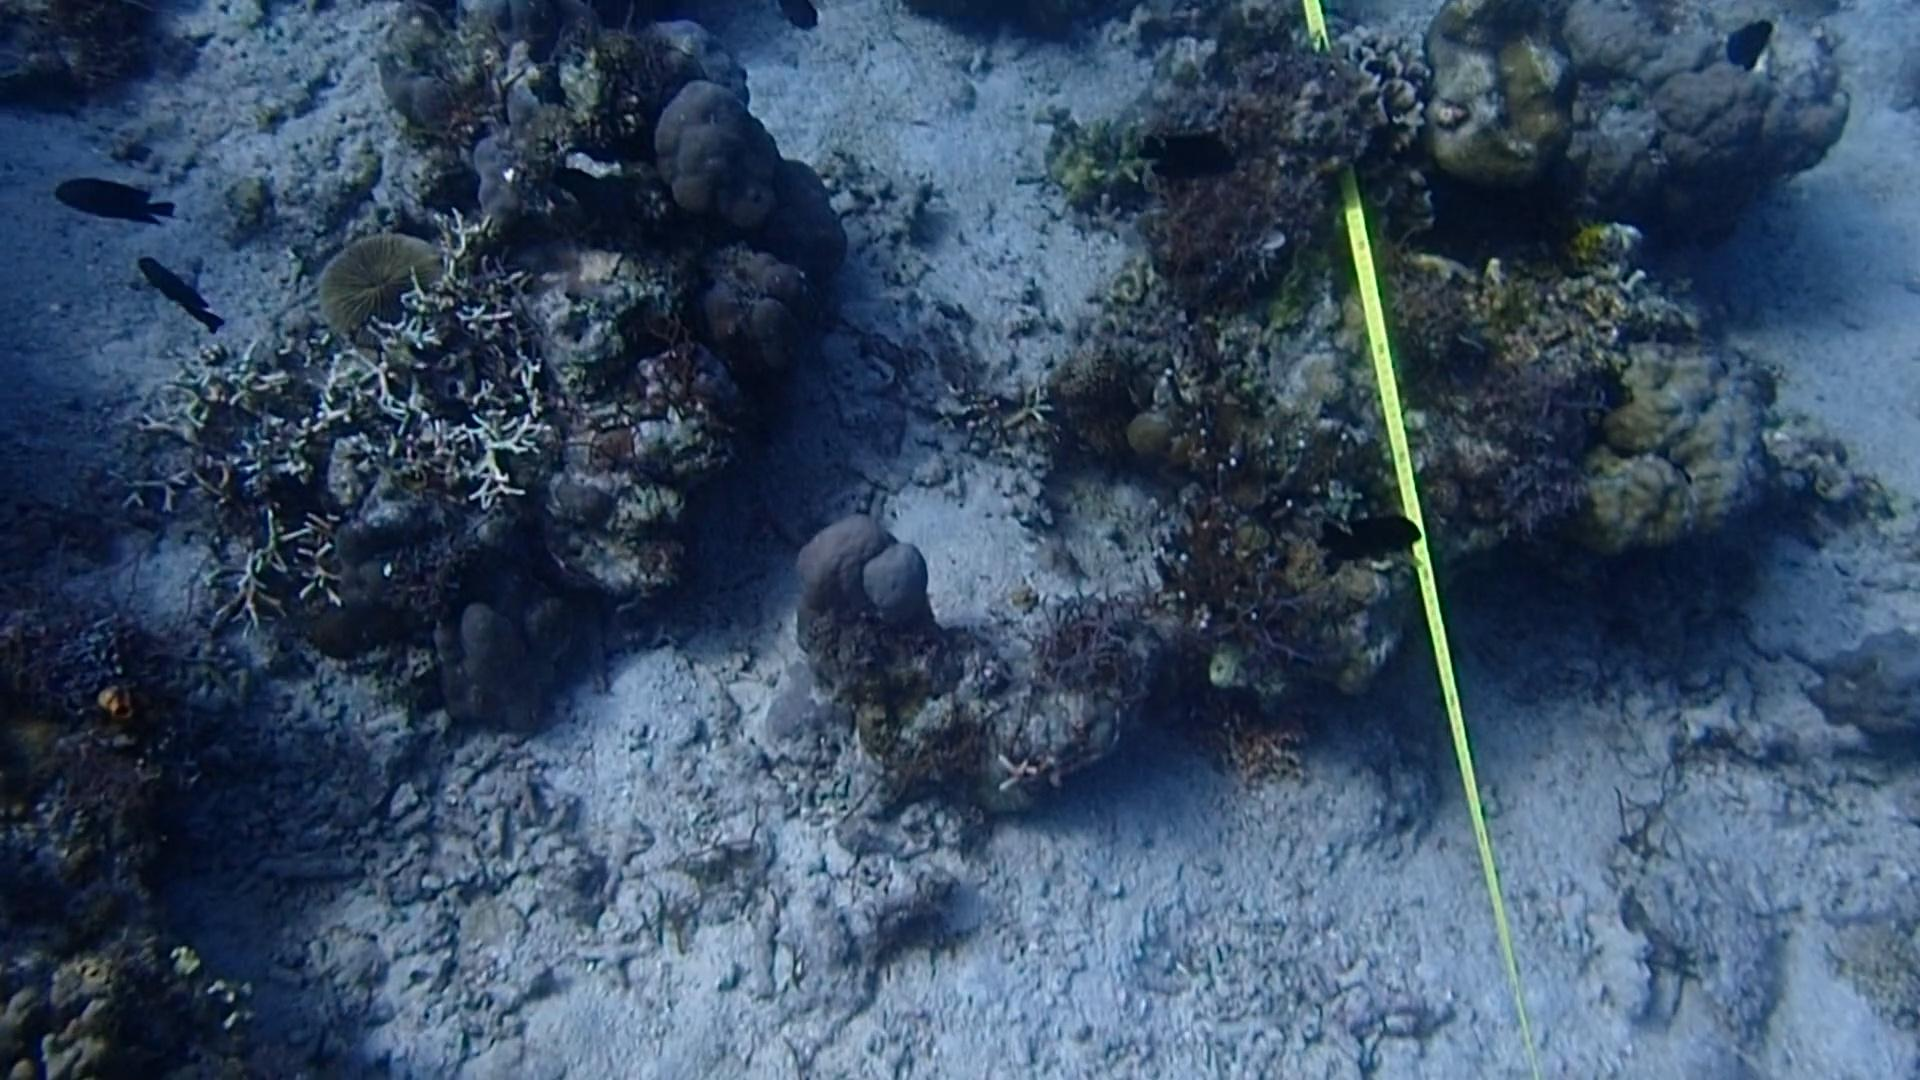Dark Fish: (1121, 117, 1255, 207), (128, 245, 244, 347), (1308, 498, 1428, 592), (558, 161, 665, 265), (53, 167, 189, 231), (1713, 11, 1783, 91)
